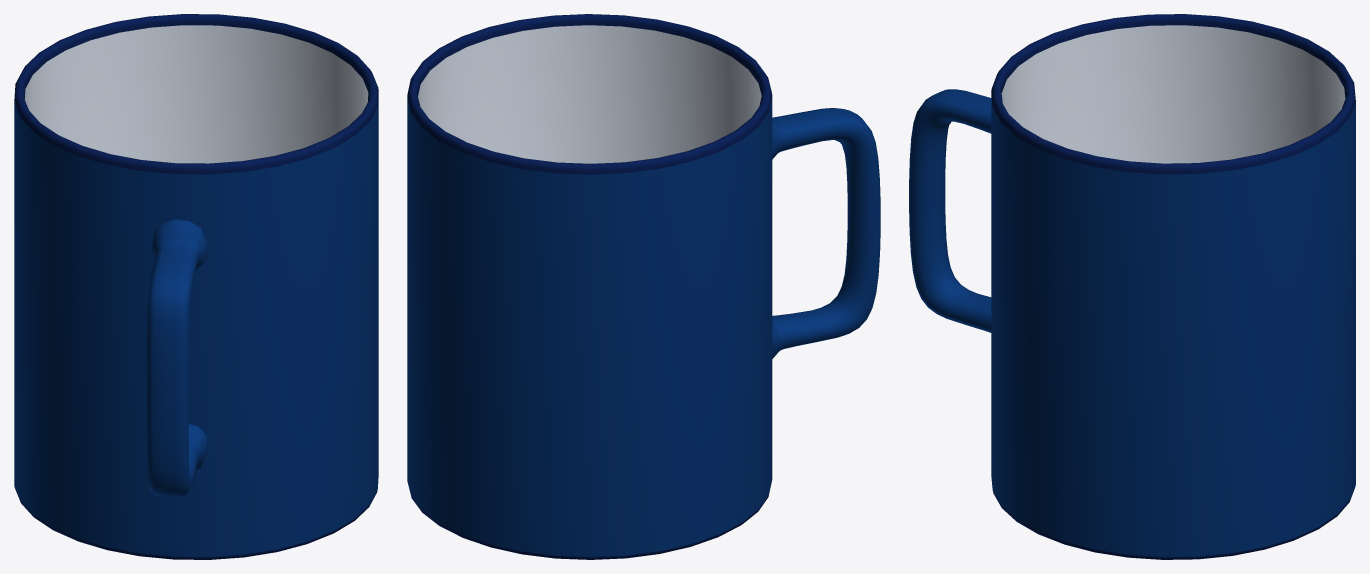
File: drinking cup textured.fbx
The picture shows the model from 3 angles, left to right: view 1: azimuth 30°, elevation 25°; view 2: azimuth 150°, elevation 25°; view 3: azimuth 270°, elevation 25°; orthographic projection.
Parts seen in each view (by area): view 1: Mug, CoffeeCupEar; view 2: Mug, CoffeeCupEar; view 3: Mug, CoffeeCupEar.
Boxes of the visible parts, x1,y1,x2,y2 form: Mug: (14,14,378,559); CoffeeCupEar: (147,219,207,497); Mug: (407,14,772,559); CoffeeCupEar: (772,108,880,358); Mug: (991,14,1355,559); CoffeeCupEar: (909,89,991,332).
Size of the model in its own units: 229 by 264 by 270.
